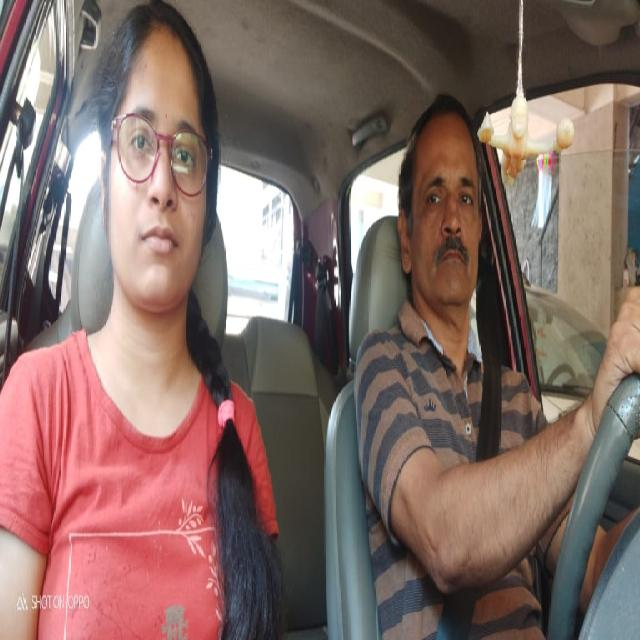person: (96, 1, 228, 315), (395, 87, 490, 340)
